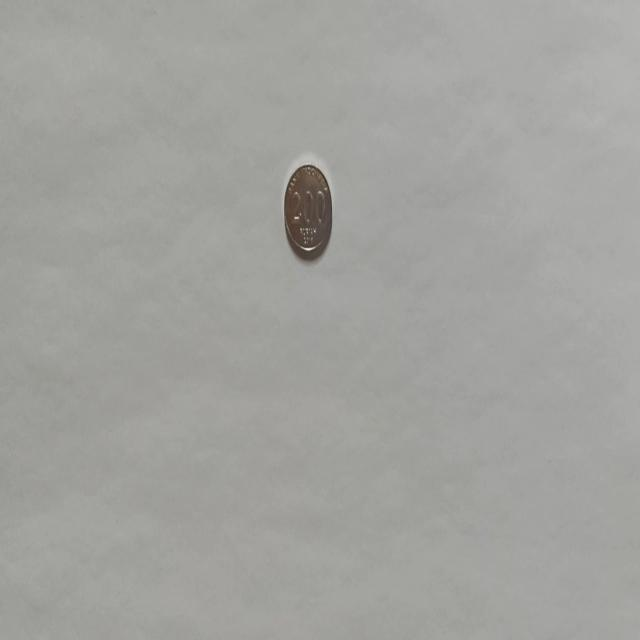dua ratus rupiah: (282, 161, 332, 260)
